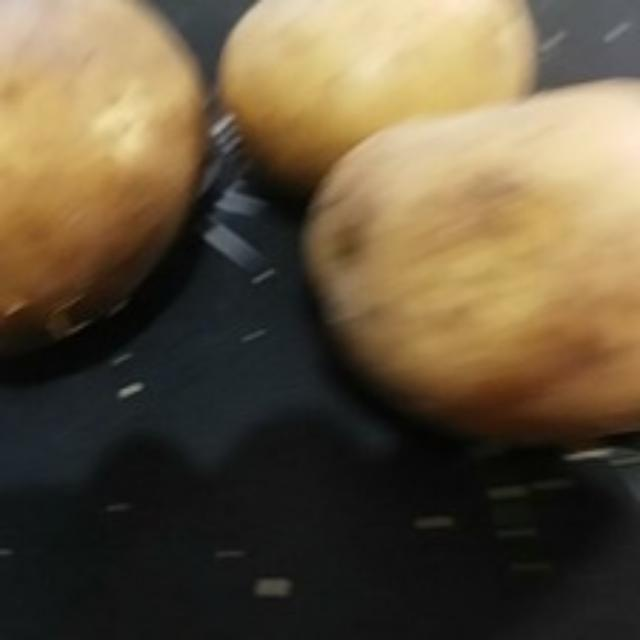Damaged potato: (292, 86, 640, 462)
Potato: (3, 1, 221, 401), (210, 1, 542, 186)
